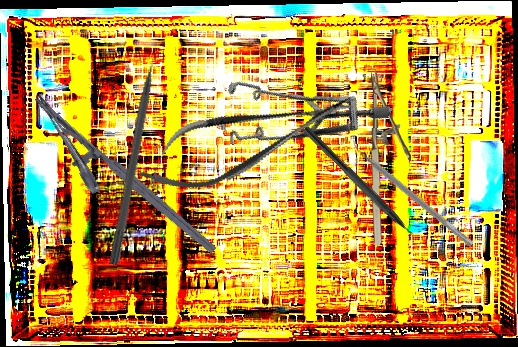Chopper: (293, 124, 428, 255)
Micro Scissor: (129, 74, 363, 207)
Needle Holder: (12, 92, 218, 280), (368, 68, 413, 246)
Pusher: (108, 36, 165, 267)
Spatula Surgical: (346, 136, 479, 248)
Speculum: (203, 27, 393, 208)
